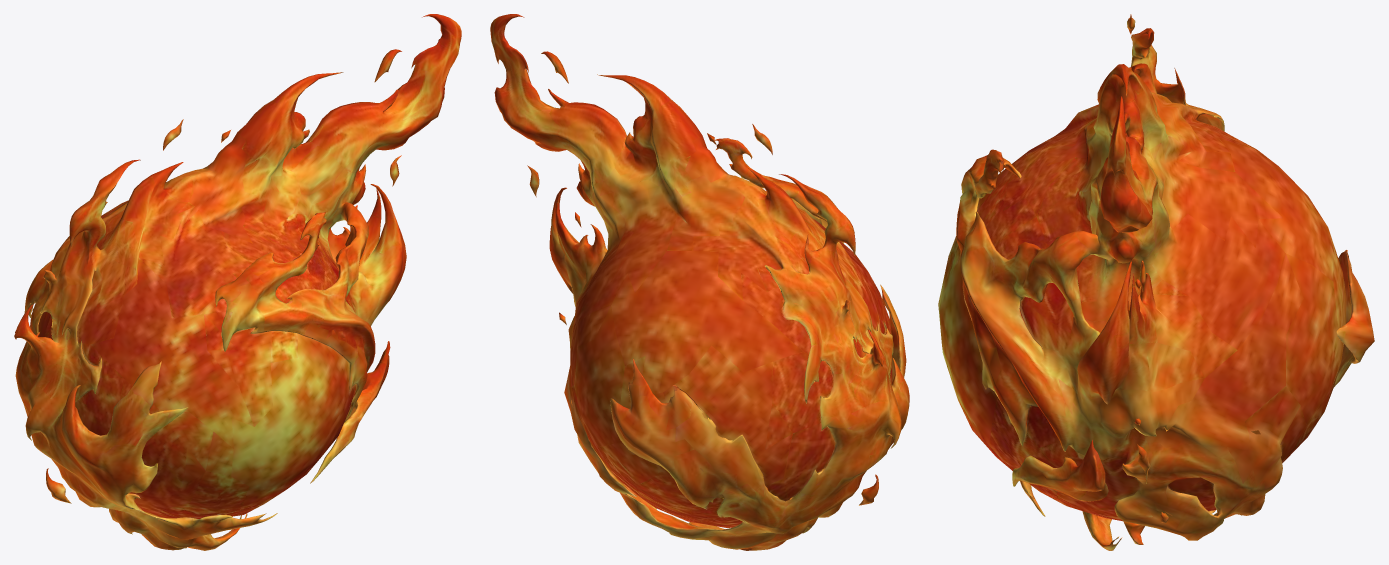
File: fireball.glb
3 views of the same model, side by side, from view 1: azimuth 30°, elevation 25°; view 2: azimuth 150°, elevation 25°; view 3: azimuth 270°, elevation 25° (orthographic). The views are drawn at different scales.
Size of the model in its own units: 0.8833 by 0.9531 by 0.6426.
Materials: 1 (1 with a texture image).
